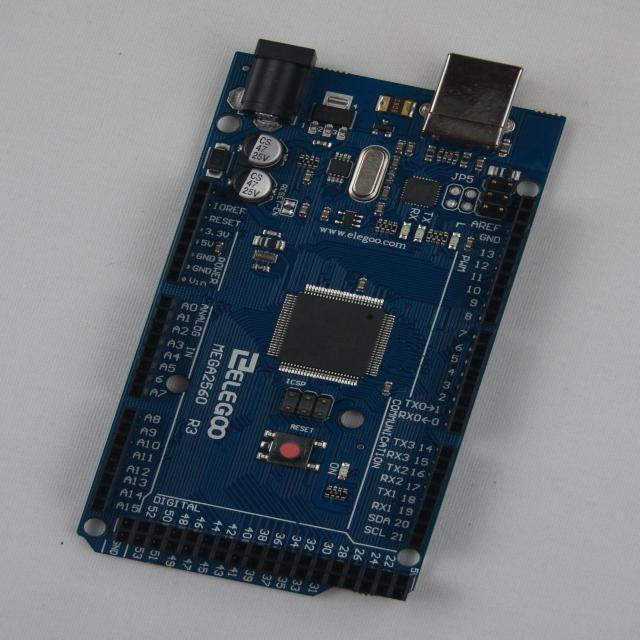Arduino Mega 2560 -Blue-: (78, 41, 564, 600)
